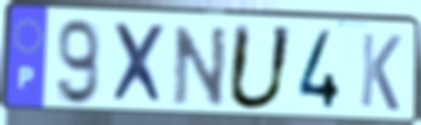4: (296, 26, 343, 113)
9: (55, 17, 102, 108)
K: (357, 30, 404, 114)
N: (171, 24, 230, 109)
U: (223, 21, 296, 114)
X: (110, 20, 168, 108)
